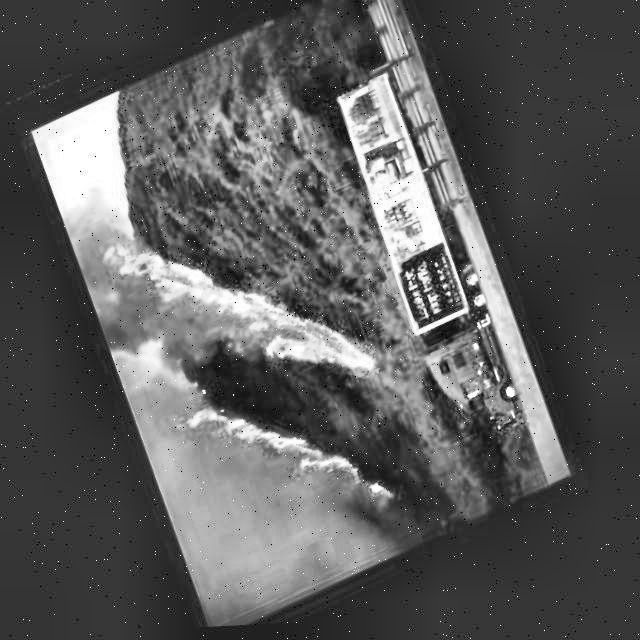Fire: (84, 153, 423, 540)
